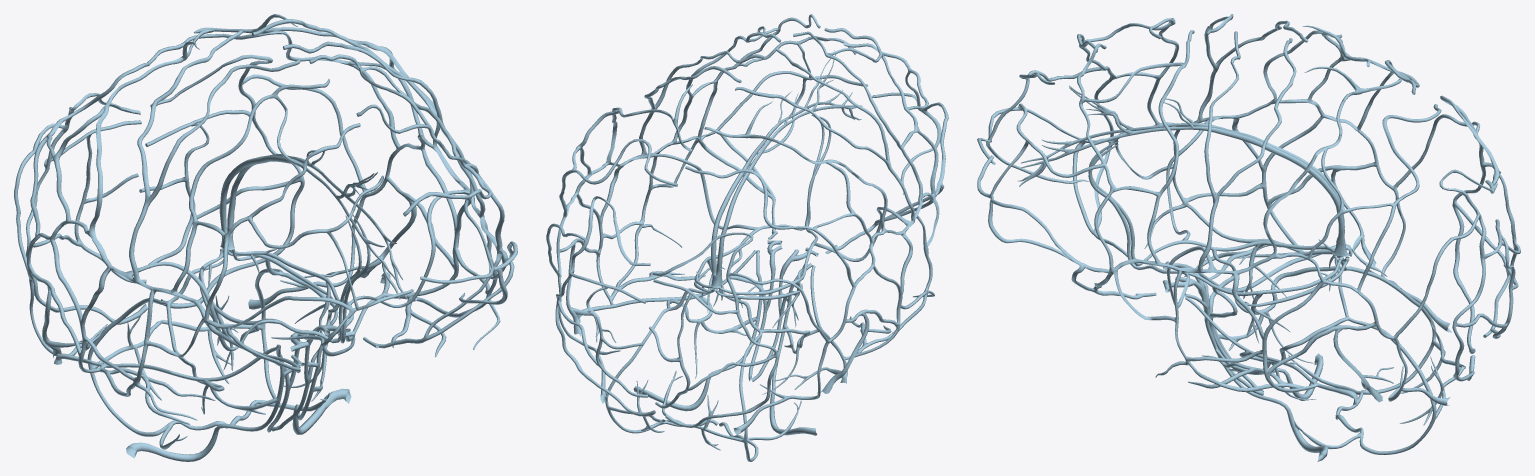
File: Cerebral_veins.fbx
3 views of the same model, side by side, from view 1: azimuth 30°, elevation 25°; view 2: azimuth 150°, elevation 25°; view 3: azimuth 270°, elevation 25° (orthographic). The views are drawn at different scales.
Visible parts, largest first — view 1: Cerebral_Veins; view 2: Cerebral_Veins; view 3: Cerebral_Veins.
Part boxes in pixels (x1,y1,x2,y2): Cerebral_Veins: [14, 14, 517, 461]; Cerebral_Veins: [546, 14, 948, 461]; Cerebral_Veins: [977, 14, 1520, 461].
Bounding box in the file's own units: 11.92 × 12.87 × 15.9.
